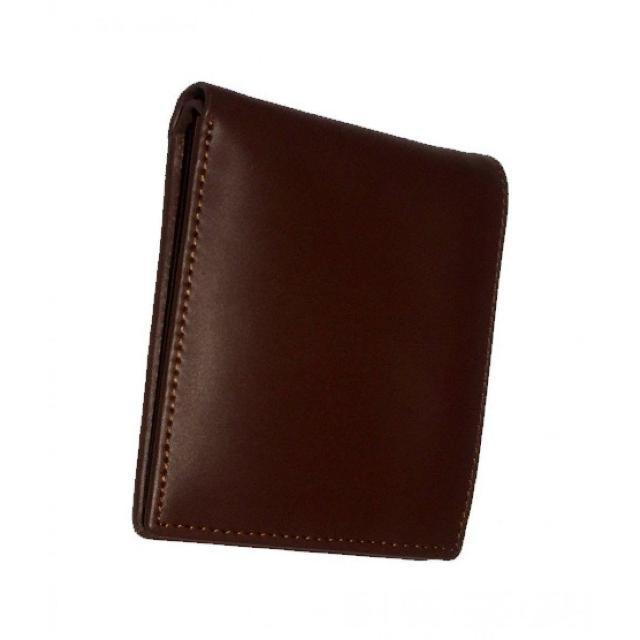wallet: (123, 76, 514, 570)
